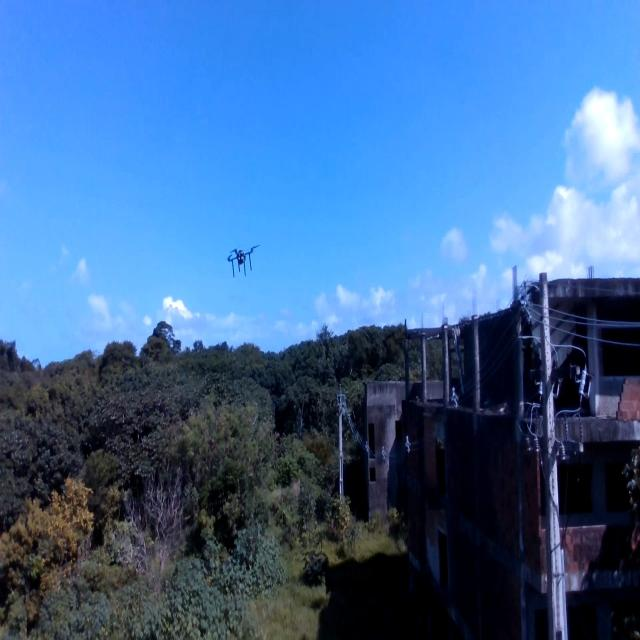-uav-: (224, 237, 258, 295)
